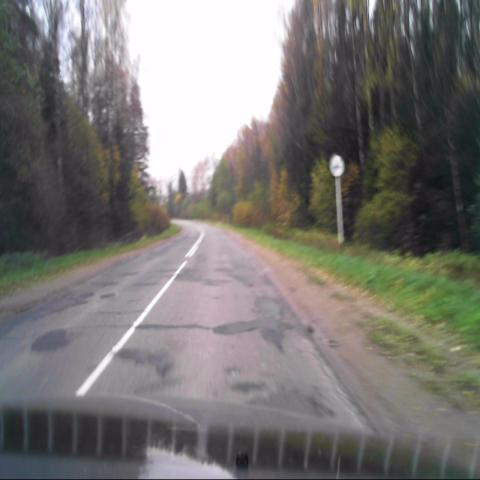3_21: (328, 154, 344, 178)
